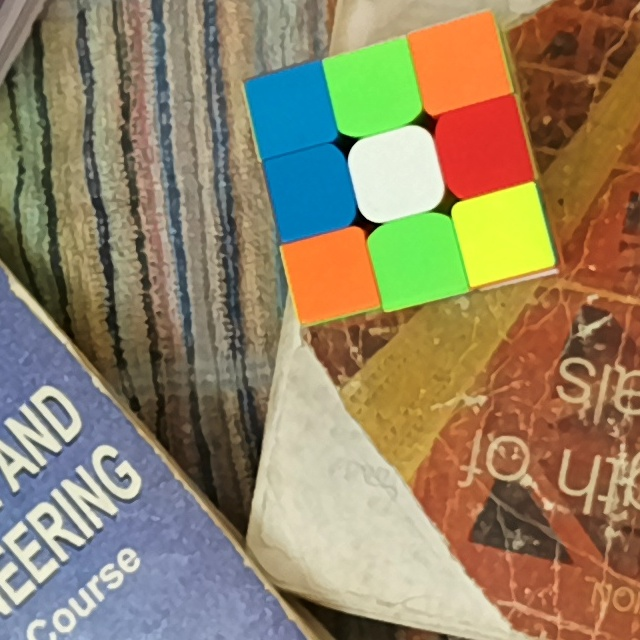tile: (427, 28, 495, 94), (454, 112, 518, 180), (471, 200, 537, 264), (341, 57, 408, 119), (281, 157, 343, 224), (387, 224, 449, 291), (367, 140, 429, 205), (300, 242, 362, 307), (260, 77, 322, 139)
